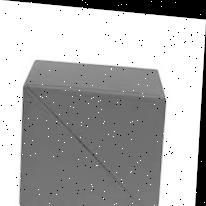cube: (16, 57, 169, 206)
